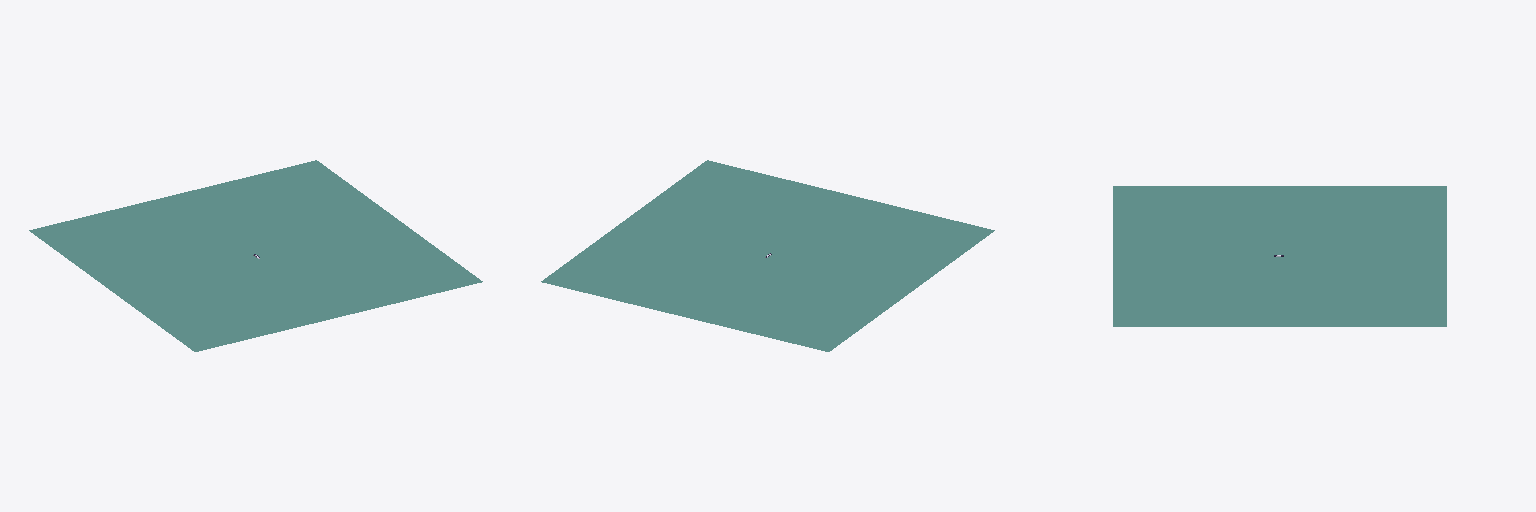
File: level3.obj
The picture shows the model from 3 angles: view 1: azimuth 30°, elevation 25°; view 2: azimuth 150°, elevation 25°; view 3: azimuth 270°, elevation 25°; orthographic projection.
Parts seen in each view (by area): view 1: Plane_Plane.001; view 2: Plane_Plane.001; view 3: Plane_Plane.001.
Boxes of the visible parts, box(x1,y1,x2,y2) form: Plane_Plane.001: box(29, 160, 482, 351); Plane_Plane.001: box(541, 160, 994, 351); Plane_Plane.001: box(1113, 186, 1446, 326).
Bounding box in the file's own units: 1000 × 3.78 × 1000.